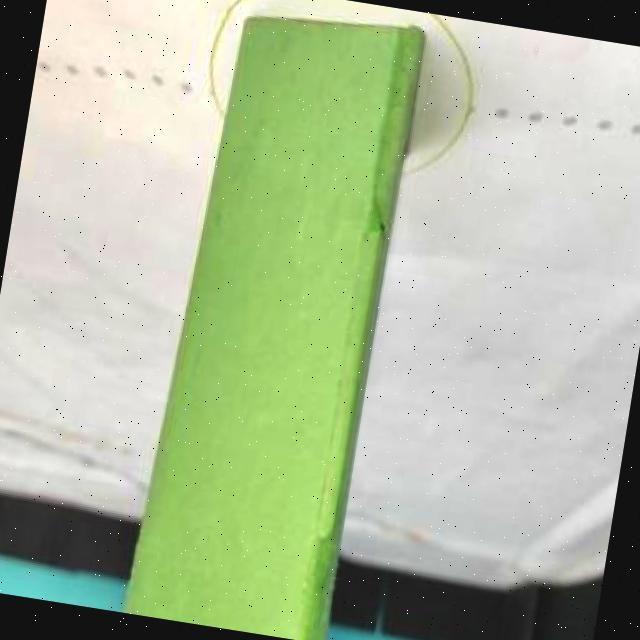greenbox: (121, 0, 427, 640)
